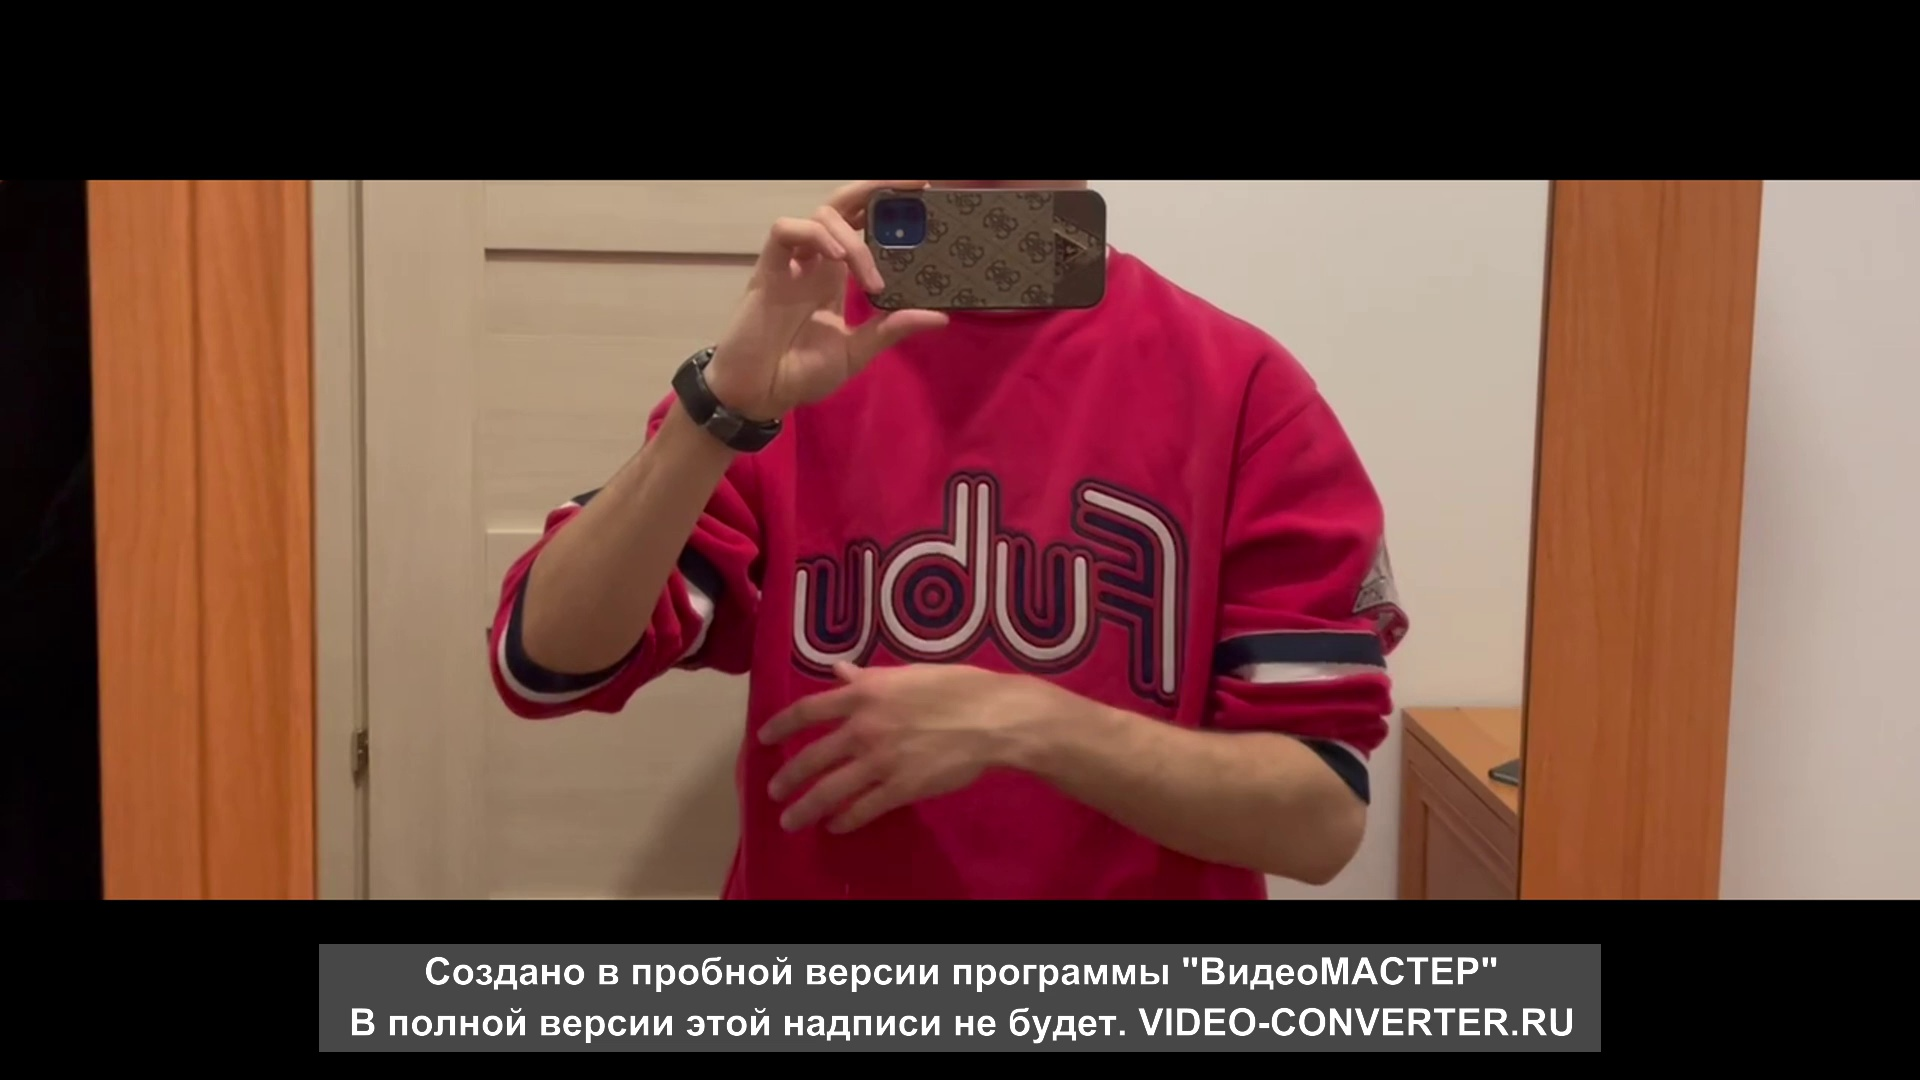Кисть: (757, 658, 1013, 840)
